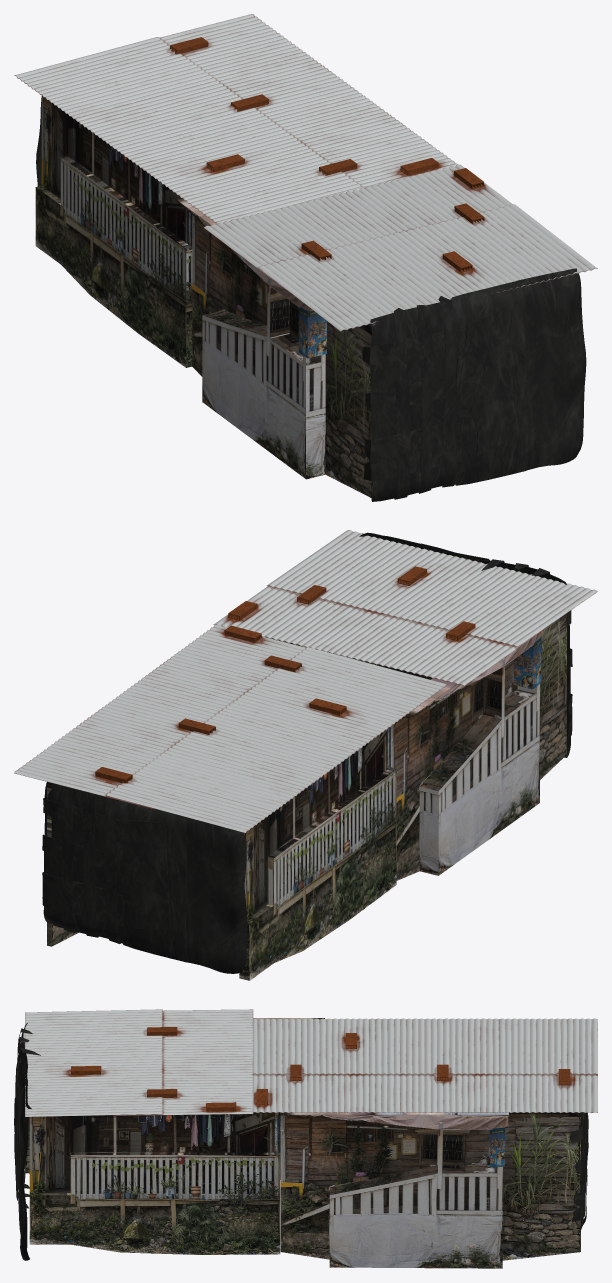
Rendered from casa_izquierda_03.fbx.
The picture shows the model from 3 angles, top to bottom: view 1: azimuth 30°, elevation 25°; view 2: azimuth 150°, elevation 25°; view 3: azimuth 270°, elevation 25°; orthographic projection. The views are drawn at different scales.
Parts seen in each view (by area): view 1: Techo_03, casa_izquierda_03C, casa_izquierda_03B.001, casa_izquierda_03A.001; view 2: Techo_03, casa_izquierda_03C.001, casa_izquierda_03B.001, casa_izquierda_03A.001, casa_izquierda_03C, casa_izquierda_03B.002; view 3: Techo_03, casa_izquierda_03B.002, casa_izquierda_03A.002, casa_izquierda_03C, casa_izquierda_03C.001.
Part boxes in pixels (left/top/right/bottom): Techo_03: left=14, top=14, right=597, bottom=331; casa_izquierda_03C: left=362, top=268, right=586, bottom=501; casa_izquierda_03B.001: left=173, top=195, right=376, bottom=497; casa_izquierda_03A.001: left=35, top=95, right=192, bottom=367; Techo_03: left=14, top=530, right=597, bottom=833; casa_izquierda_03C.001: left=42, top=782, right=247, bottom=973; casa_izquierda_03B.001: left=390, top=613, right=566, bottom=880; casa_izquierda_03A.001: left=239, top=727, right=396, bottom=980; casa_izquierda_03C: left=359, top=532, right=572, bottom=757; casa_izquierda_03B.002: left=47, top=782, right=78, bottom=946; Techo_03: left=25, top=1009, right=597, bottom=1116; casa_izquierda_03B.002: left=280, top=1112, right=580, bottom=1268; casa_izquierda_03A.002: left=29, top=1112, right=280, bottom=1254; casa_izquierda_03C: left=14, top=1022, right=40, bottom=1260; casa_izquierda_03C.001: left=569, top=1112, right=588, bottom=1234.
Size of the model in its own units: 877 by 634 by 2070.
